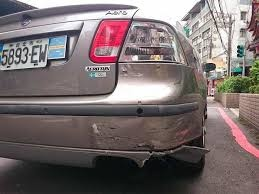Broken-glass: (124, 20, 179, 61)
Dent: (92, 146, 203, 171)
Scratch: (87, 120, 147, 150)
